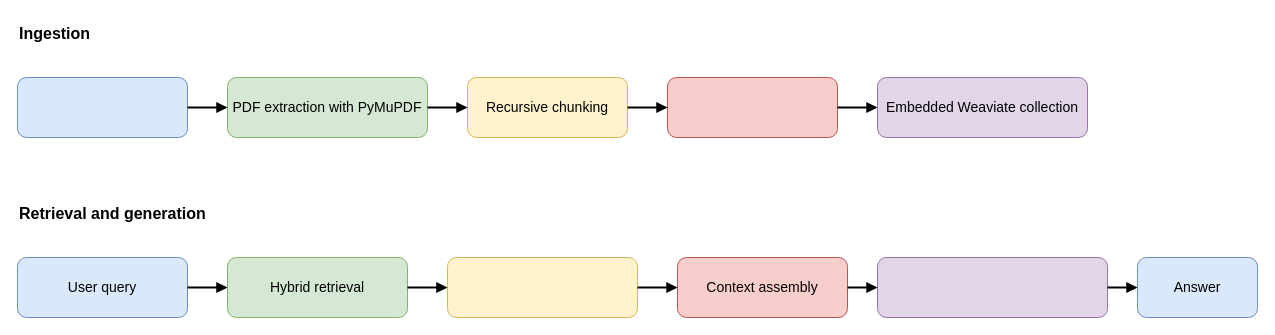
This 1275x335 diagram has some shape labels left out. Each missing label, with the centre of its shape:
"ChatOpenAI / DeepSeek Chat" goes at (x=992, y=287).
"Embedding generation" goes at (x=752, y=107).
"Local reranker service" goes at (x=542, y=287).
"PDF files in data/pdfs" goes at (x=102, y=107).
